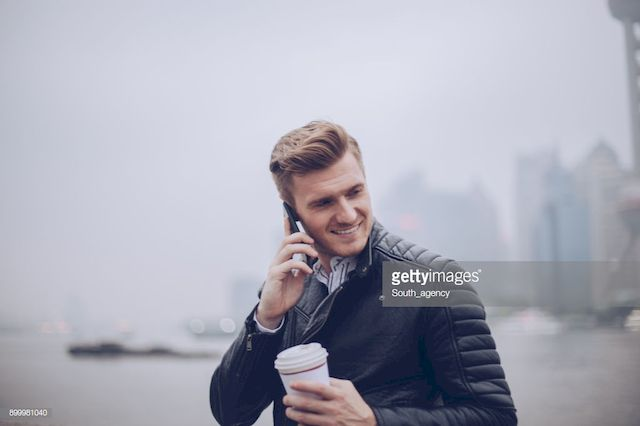phone: (274, 209, 319, 268)
talk: (265, 181, 374, 317)
